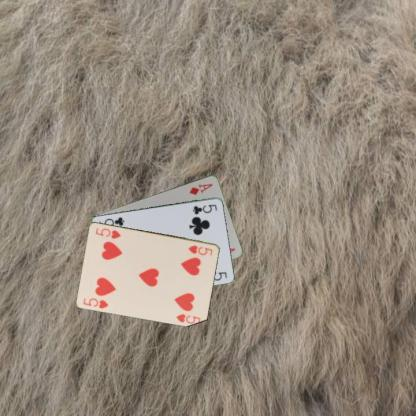5c: (190, 202, 218, 216)
5h: (81, 295, 110, 310), (186, 242, 214, 257)
Ad: (186, 181, 214, 196)
